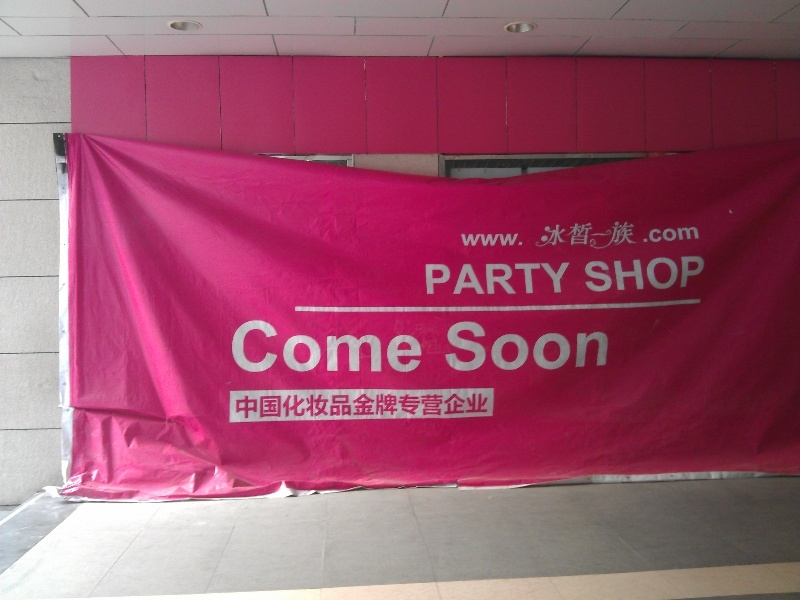text: (241, 320, 256, 376), (257, 320, 272, 376), (273, 320, 288, 376), (289, 320, 304, 376), (305, 320, 320, 376), (321, 320, 336, 376), (337, 320, 352, 376), (353, 320, 368, 376), (369, 320, 384, 376), (385, 320, 400, 376), (401, 320, 416, 376), (449, 320, 464, 372), (465, 320, 480, 372), (481, 320, 496, 372), (497, 320, 512, 372), (513, 320, 528, 372), (529, 320, 544, 372), (545, 320, 560, 372), (561, 320, 576, 372), (577, 320, 592, 372), (593, 320, 608, 372), (593, 254, 608, 295), (609, 254, 624, 295), (625, 254, 640, 295), (641, 254, 656, 295), (657, 254, 672, 295), (673, 254, 688, 295), (689, 254, 704, 295), (433, 259, 448, 297), (449, 259, 464, 297), (465, 259, 480, 297), (481, 259, 496, 297), (497, 259, 512, 297), (513, 259, 528, 297), (529, 259, 544, 297), (545, 259, 560, 297), (545, 222, 560, 252), (561, 222, 576, 252), (577, 222, 592, 252), (593, 222, 608, 252), (609, 222, 624, 252), (232, 320, 240, 376), (241, 392, 256, 420), (257, 392, 272, 420), (273, 392, 288, 420), (289, 392, 304, 420), (305, 392, 320, 420), (321, 392, 336, 420), (337, 392, 352, 420), (353, 392, 368, 420), (369, 392, 384, 420), (385, 392, 400, 420), (401, 392, 416, 420), (417, 392, 432, 420), (433, 392, 448, 420), (449, 392, 464, 420), (465, 392, 480, 420), (625, 222, 638, 252), (561, 259, 571, 297), (417, 320, 423, 376), (584, 254, 592, 295), (424, 259, 432, 297), (535, 222, 544, 252), (657, 226, 672, 244), (673, 226, 688, 244), (481, 392, 490, 420), (642, 226, 656, 244), (465, 233, 480, 248), (481, 233, 496, 248), (497, 233, 512, 248), (689, 226, 700, 244), (513, 233, 525, 248), (445, 320, 448, 372), (236, 392, 240, 420), (609, 320, 610, 372), (461, 233, 464, 248), (705, 254, 706, 295)
